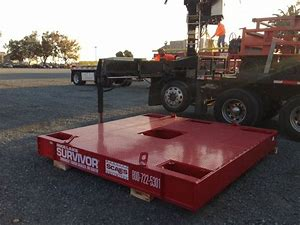Industrial Scale: (36, 57, 279, 213)
